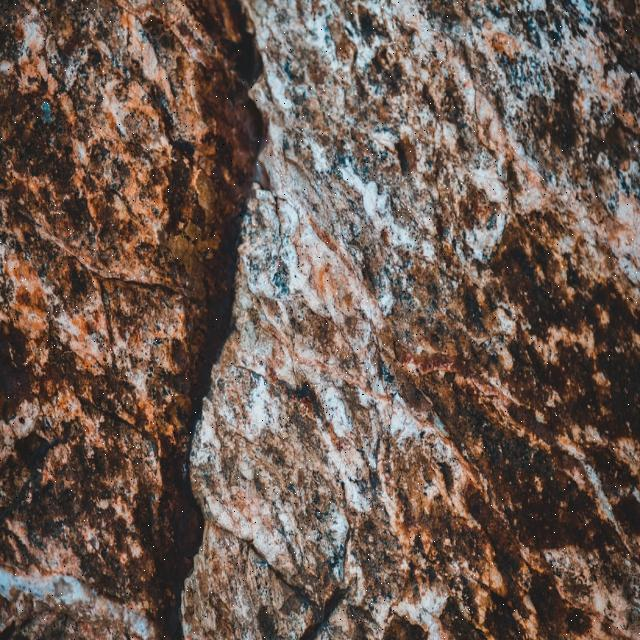Igneous: (1, 4, 640, 636)
